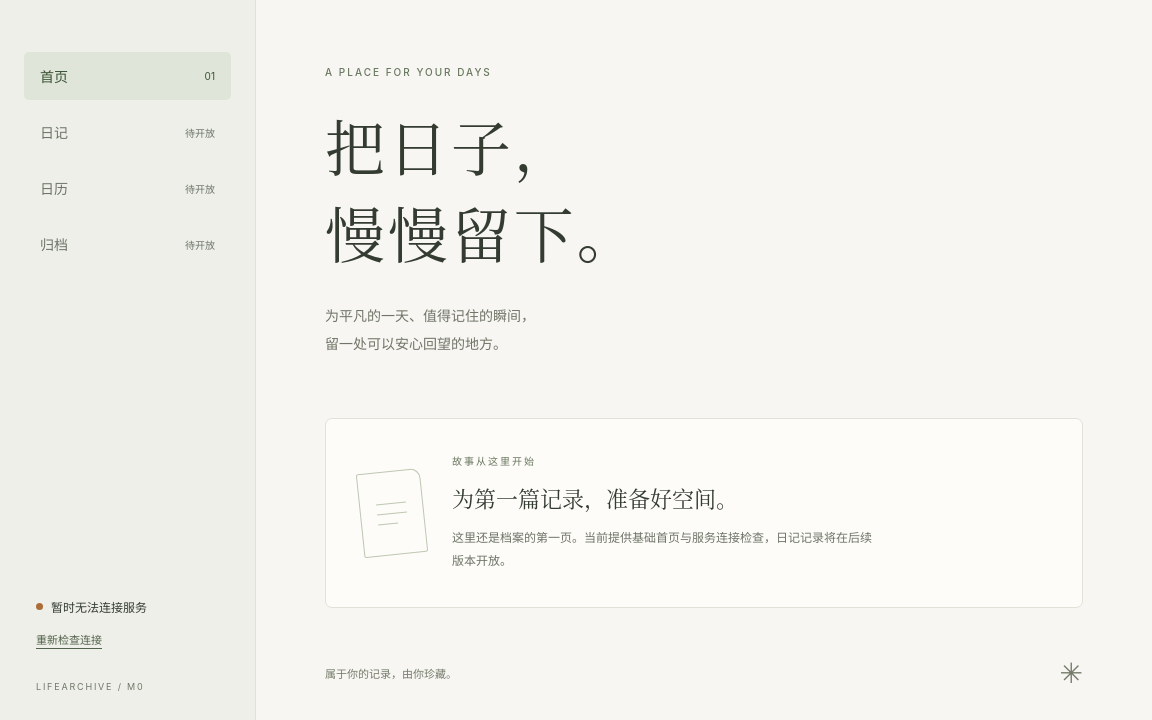
Test: foundation home › allows a failed network request to be retried
(page scrolled)
Check: the text "暂时无法连接服务" is shown, box x1=36 y1=600 x2=147 y2=614
Click the button "重新检查连接". click: x=69, y=638
box: x1=36 y1=616 x2=102 y2=660
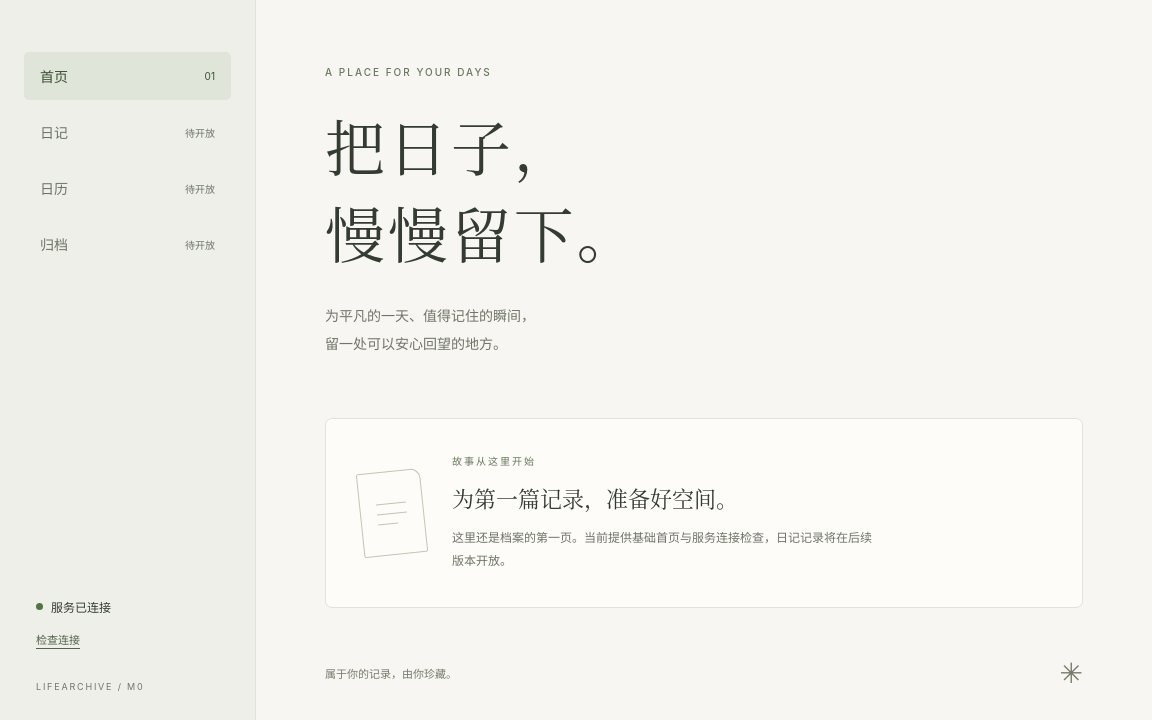
Check: the text "服务已连接" is shown, box x1=36 y1=600 x2=111 y2=614
